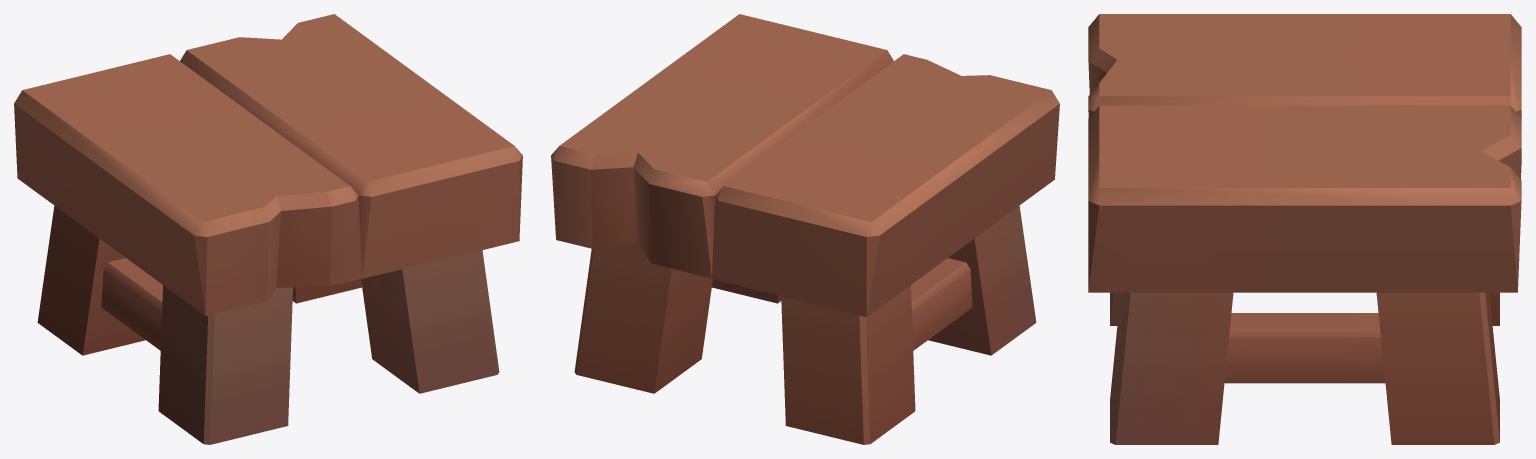
The model's file is kay-banquinho.gltf.
3 views of the same model, side by side, from view 1: azimuth 30°, elevation 25°; view 2: azimuth 150°, elevation 25°; view 3: azimuth 270°, elevation 25° (orthographic). The views are drawn at different scales.
Parts seen in each view (by area): view 1: stool; view 2: stool; view 3: stool.
Part boxes in pixels (bbox=[...]): stool: bbox=[14, 14, 522, 444]; stool: bbox=[551, 14, 1059, 444]; stool: bbox=[1088, 14, 1521, 444].
Size of the model in its own units: 0.4875 by 0.325 by 0.4875.
Materials: 1 (1 with a texture image).
